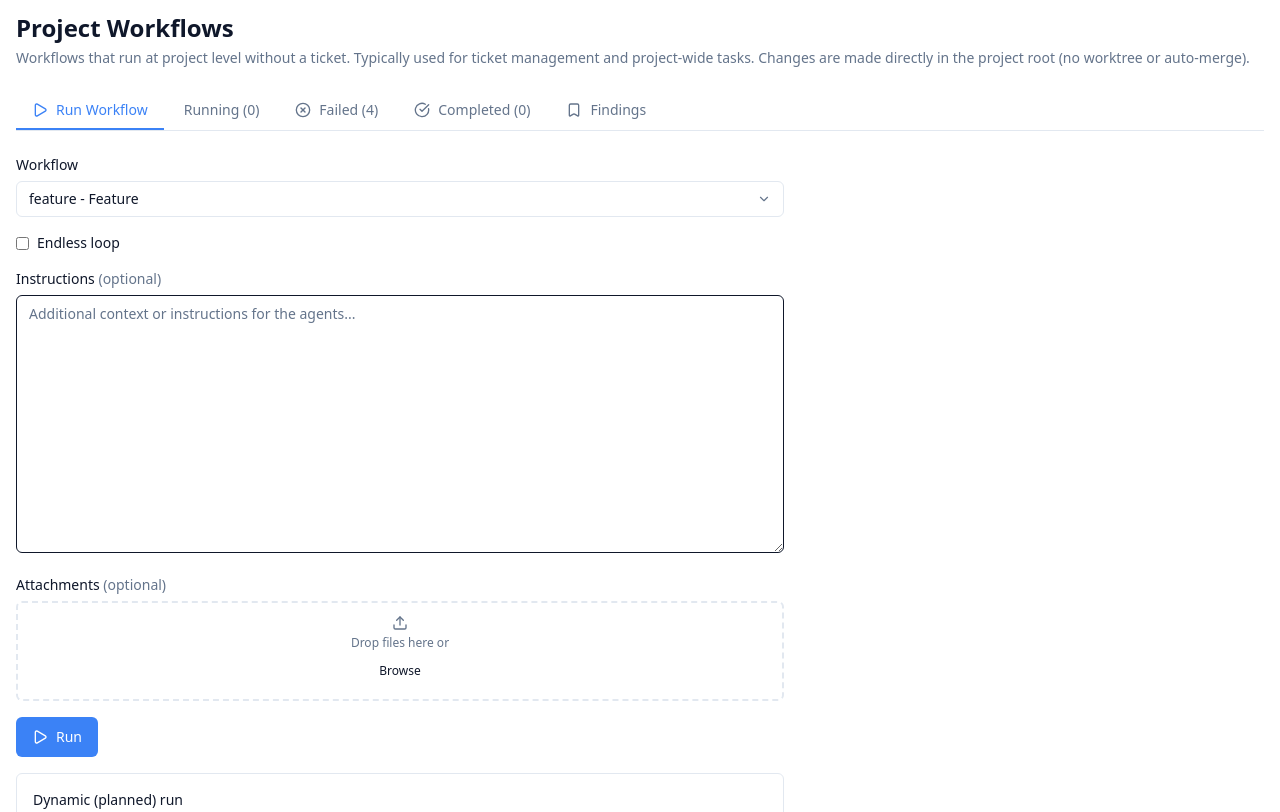
Test: ProjectWorkflowsPage — Failed tab sorting › renders failed instances sorted by initialized_at descending, no-date last
Click the button "Failed (4)": (337, 111) [279,92,394,130]
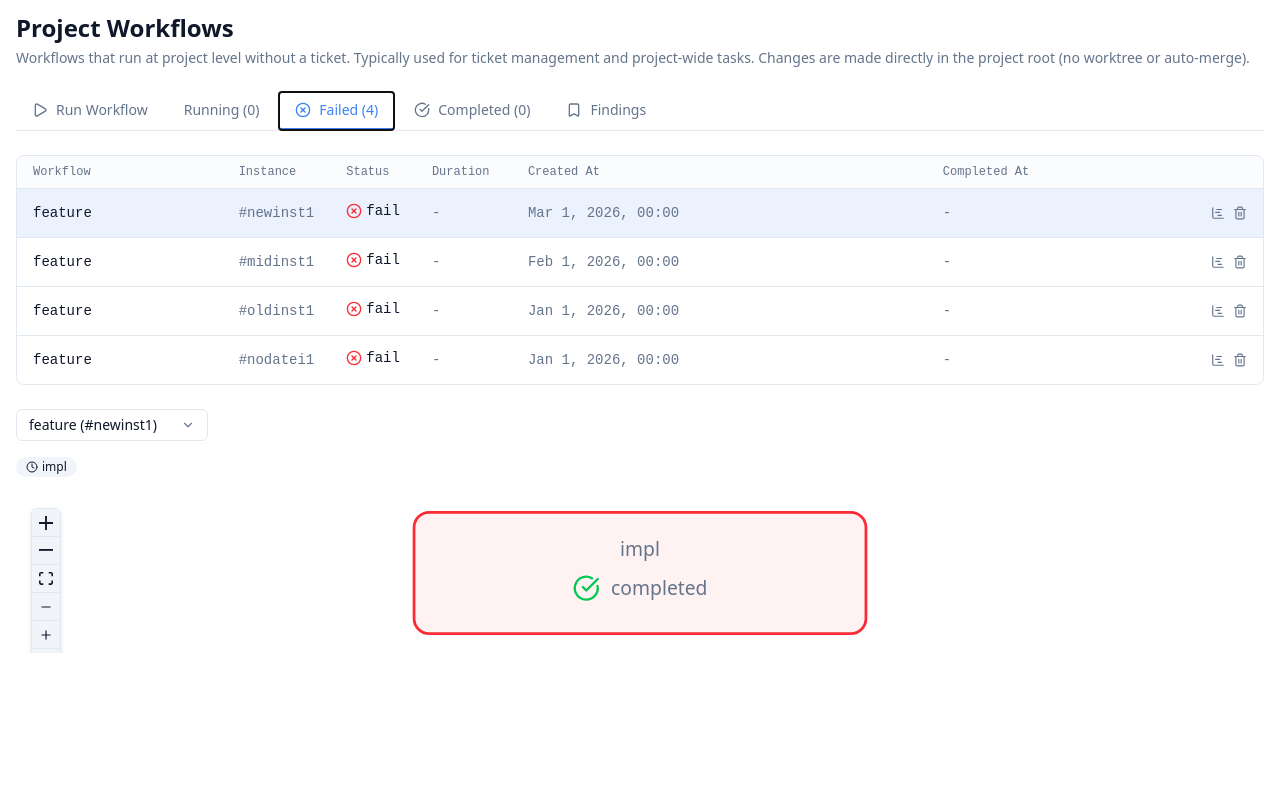
Expected: the number of rows with test id "instance-row" is 4, [17,188,1263,238]; [17,238,1263,286]; [17,286,1263,336]; [17,336,1263,384]
Expected: the row with test id "instance-row" shows "#newinst1", [17,188,1263,238]
Expected: the row with test id "instance-row" shows "#midinst1", [17,238,1263,286]
